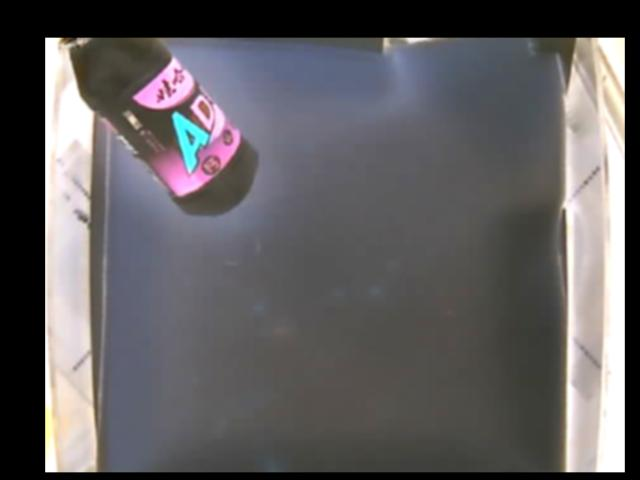Bottle: (60, 38, 261, 219)
